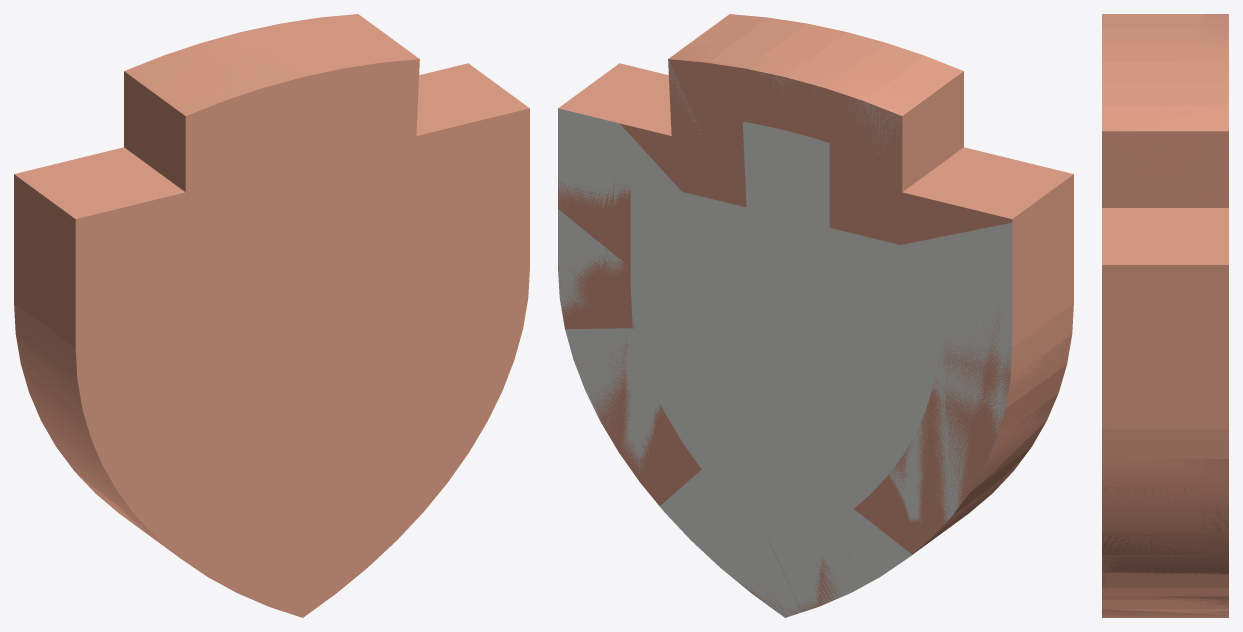
Rendered from shieldRed.fbx.
The picture shows the model from 3 angles, left to right: view 1: azimuth 30°, elevation 25°; view 2: azimuth 150°, elevation 25°; view 3: azimuth 270°, elevation 25°; orthographic projection. The views are drawn at different scales.
Visible parts, largest first — view 1: shieldRed, shieldRed_cell.004, shieldRed_cell, shieldRed_cell.003, shieldRed_cell.005, shieldRed_cell.006, shieldRed_cell.002, shieldRed_cell.001; view 2: shieldRed, shieldRed_cell, shieldRed_cell.004, shieldRed_cell.002, shieldRed_cell.001, shieldRed_cell.005, shieldRed_cell.007, shieldRed_cell.006, shieldRed_cell.003; view 3: shieldRed, shieldRed_cell.004, shieldRed_cell.005, shieldRed_cell.003, shieldRed_cell.006, shieldRed_cell.002, shieldRed_cell.007.
Boxes of the visible parts, <box> form: shieldRed: <box>14,14,529,617</box>; shieldRed_cell.004: <box>16,18,385,260</box>; shieldRed_cell: <box>14,178,343,553</box>; shieldRed_cell.003: <box>268,19,467,296</box>; shieldRed_cell.005: <box>309,84,529,348</box>; shieldRed_cell.006: <box>439,225,529,328</box>; shieldRed_cell.002: <box>350,344,514,505</box>; shieldRed_cell.001: <box>116,510,304,611</box>; shieldRed: <box>558,17,1073,617</box>; shieldRed_cell: <box>743,177,1073,535</box>; shieldRed_cell.004: <box>705,17,1073,221</box>; shieldRed_cell.002: <box>565,327,745,476</box>; shieldRed_cell.001: <box>726,425,911,611</box>; shieldRed_cell.005: <box>558,63,756,303</box>; shieldRed_cell.007: <box>660,448,801,617</box>; shieldRed_cell.006: <box>558,209,701,327</box>; shieldRed_cell.003: <box>648,14,762,142</box>; shieldRed: <box>1102,14,1228,617</box>; shieldRed_cell.004: <box>1102,14,1228,108</box>; shieldRed_cell.005: <box>1102,234,1228,367</box>; shieldRed_cell.003: <box>1102,109,1228,233</box>; shieldRed_cell.006: <box>1102,368,1228,485</box>; shieldRed_cell.002: <box>1102,486,1228,597</box>; shieldRed_cell.007: <box>1102,597,1228,617</box>.
Bounding box in the file's own units: 240 × 273 × 56.4.
